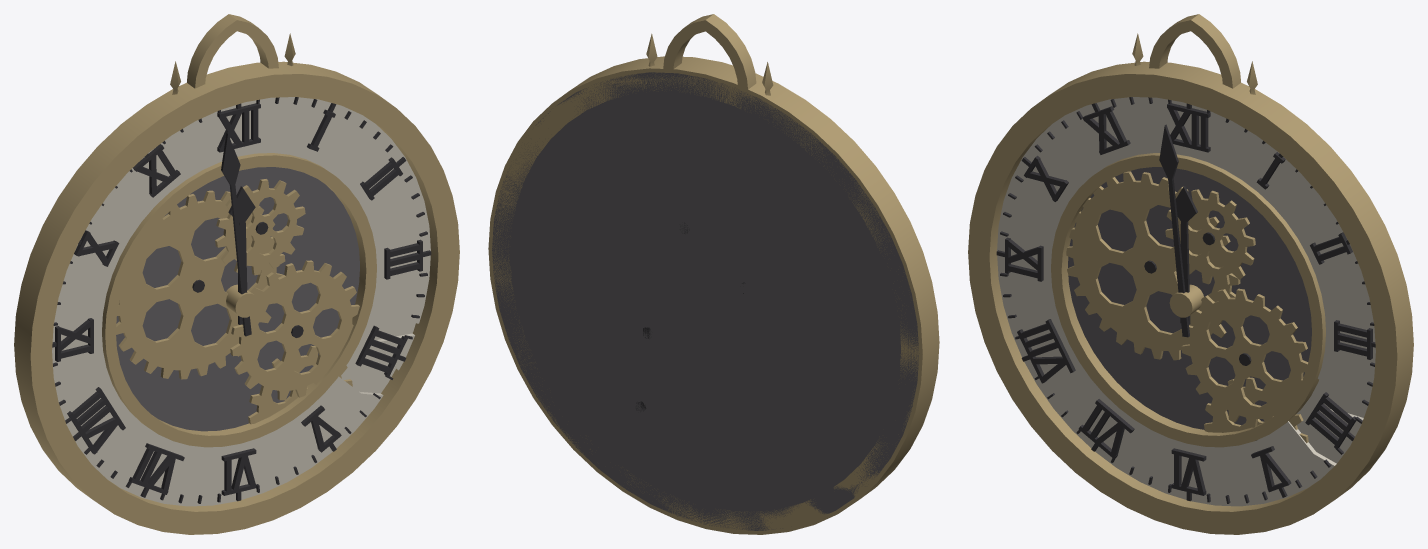
Rendered from clock_face_wall.glb.
3 renders of one model, left to right at view 1: azimuth 30°, elevation 25°; view 2: azimuth 150°, elevation 25°; view 3: azimuth 330°, elevation 25°, orthographic.
Parts seen in each view (by area): view 1: ClockFaceWall; view 2: ClockFaceWall; view 3: ClockFaceWall.
Boxes of the visible parts, <box> form: ClockFaceWall: <box>14,14,459,534</box>; ClockFaceWall: <box>488,14,939,534</box>; ClockFaceWall: <box>968,14,1413,534</box>.
Bounding box in the file's own units: 6 × 6.72 × 0.44.
